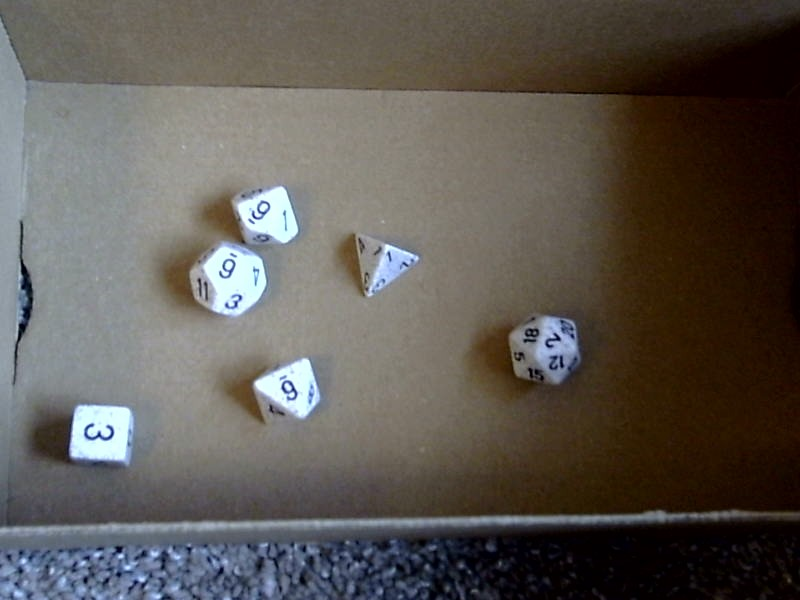d10 9: (222, 169, 304, 248)
d12 6: (178, 241, 266, 321)
d20 2: (498, 305, 587, 398)
d4 1: (344, 226, 421, 302)
d6 3: (57, 394, 140, 477)
d8 6: (246, 353, 336, 432)
